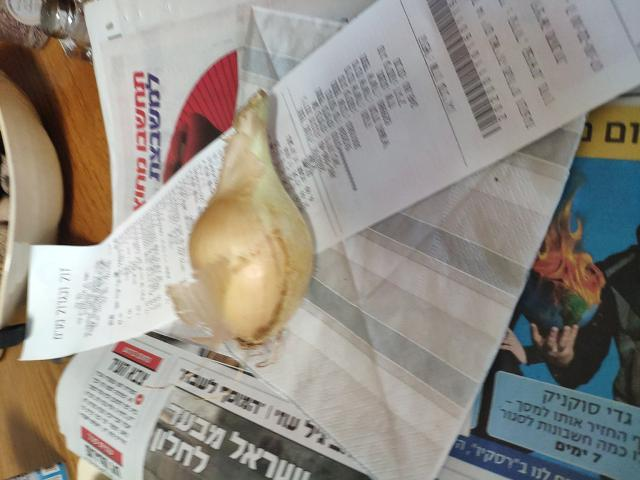onion: (197, 120, 319, 338)
